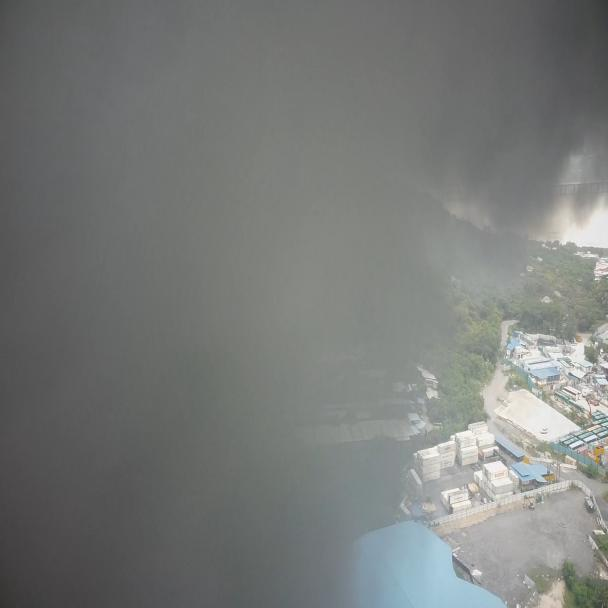smoke: (6, 7, 606, 608)
